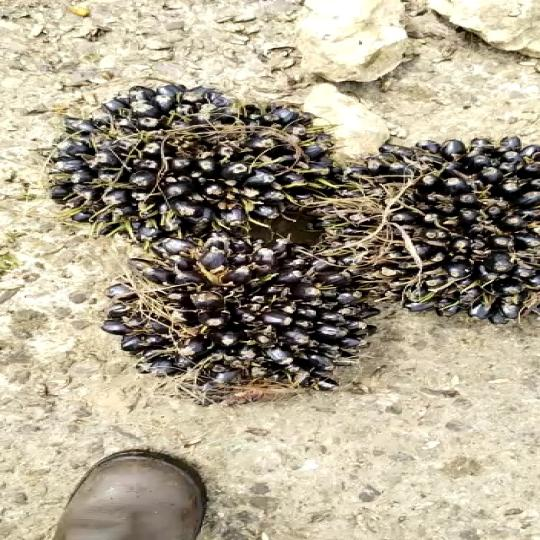mentah: (78, 243, 412, 412), (67, 68, 329, 240), (316, 125, 540, 323)
